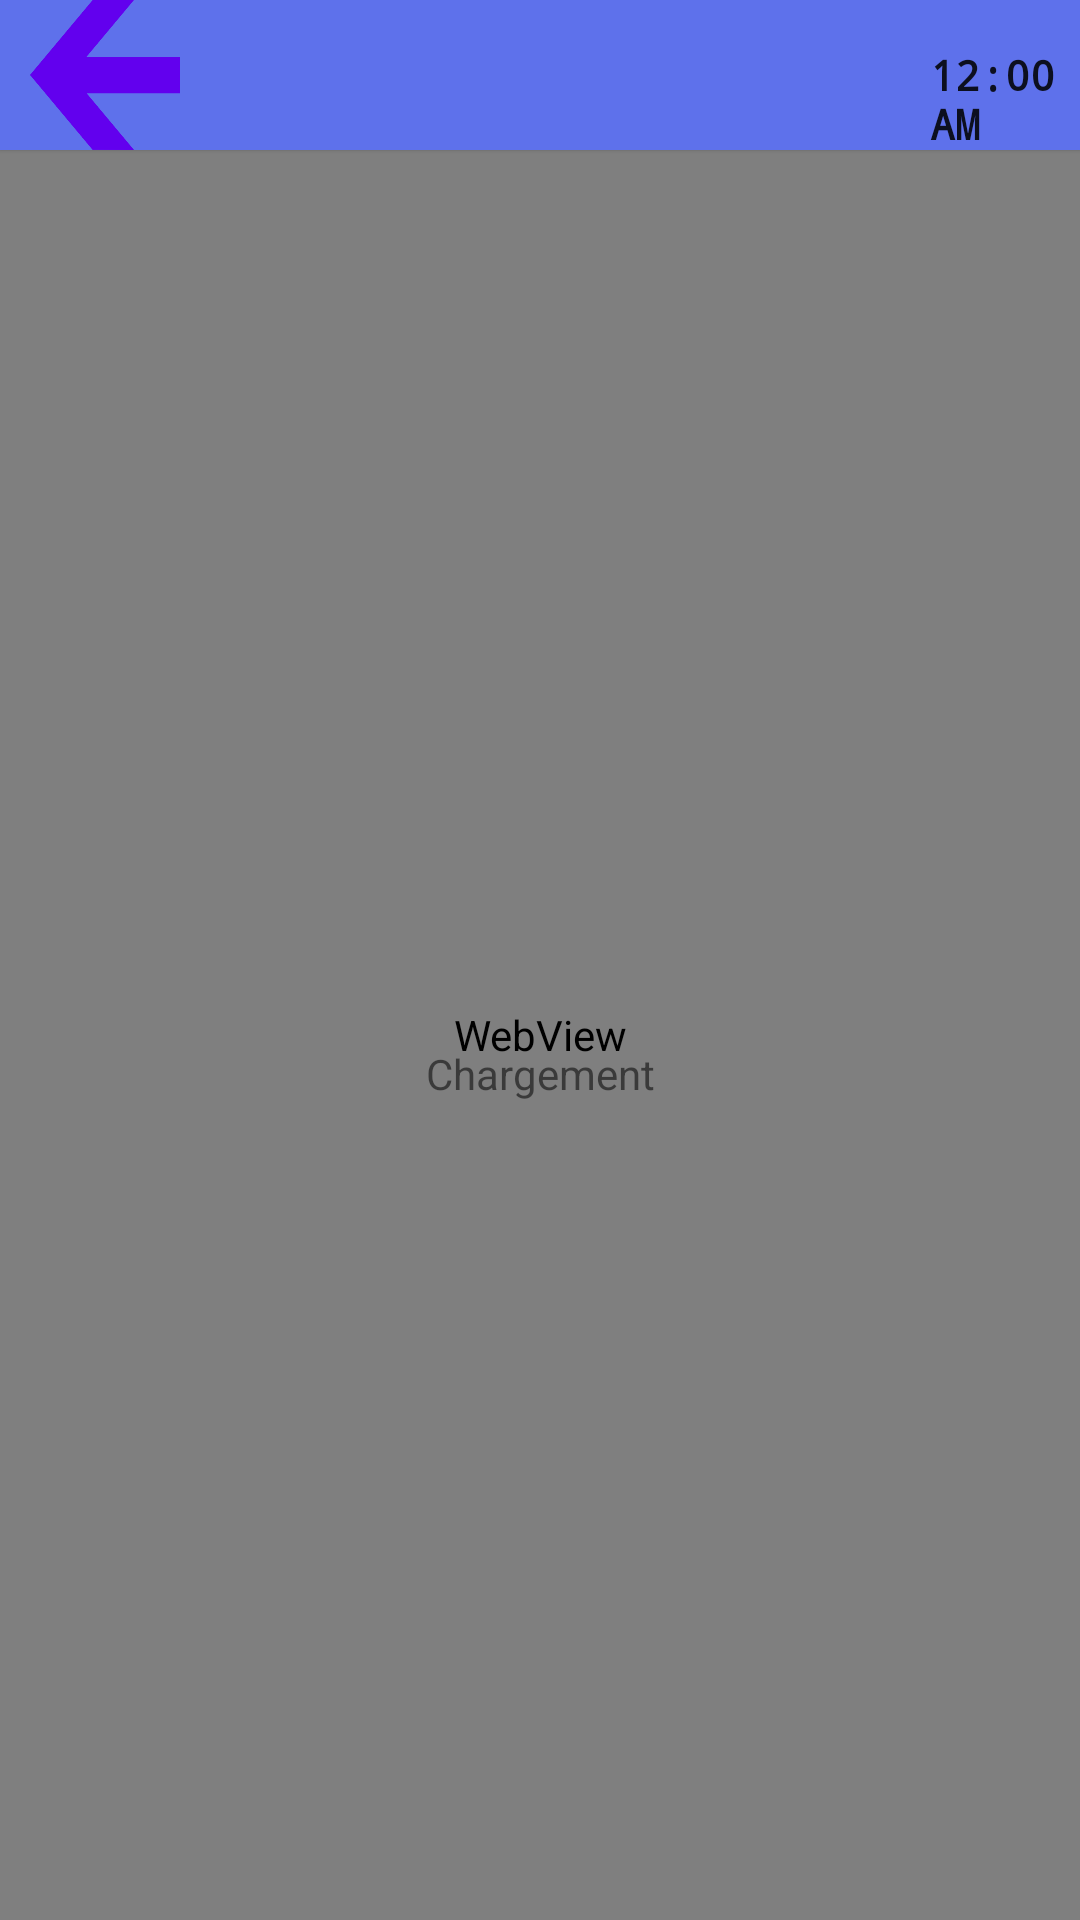

Point at icon controls on the screen. Image size 1080w x 1920h, points as (x,y).
back: (105,75)
